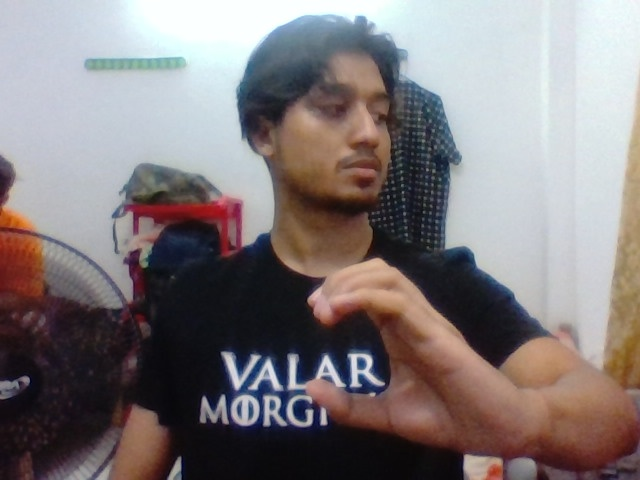C: (256, 251, 467, 447)
